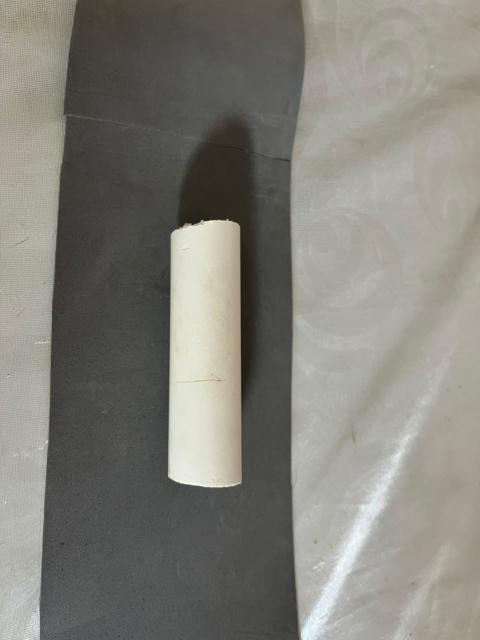PVC: (161, 208, 255, 509)
